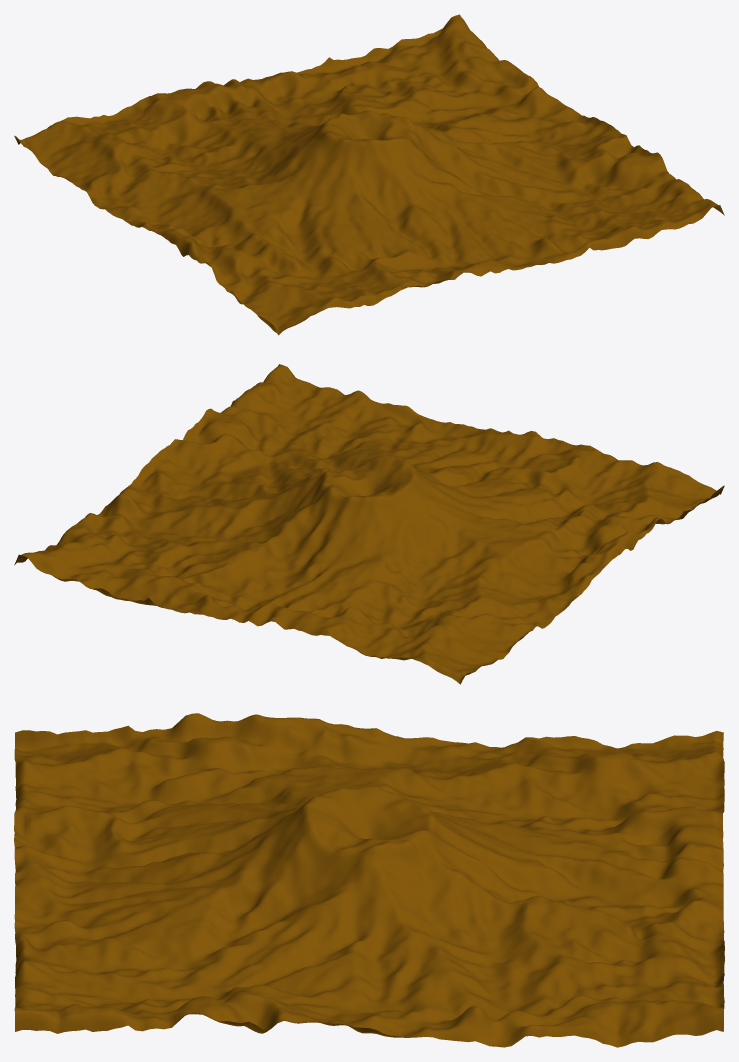
3 renders of one model, top to bottom at view 1: azimuth 30°, elevation 25°; view 2: azimuth 150°, elevation 25°; view 3: azimuth 270°, elevation 25°, orthographic. The views are drawn at different scales.
Parts seen in each view (by area): view 1: volcano_02_subdiv_05:VOLCANO; view 2: volcano_02_subdiv_05:VOLCANO; view 3: volcano_02_subdiv_05:VOLCANO.
Boxes of the visible parts, left/top/right/bottom form: volcano_02_subdiv_05:VOLCANO: left=14, top=14, right=724, bottom=335; volcano_02_subdiv_05:VOLCANO: left=14, top=364, right=724, bottom=684; volcano_02_subdiv_05:VOLCANO: left=14, top=713, right=724, bottom=1047.
Size of the model in its own units: 502 by 69.99 by 501.
